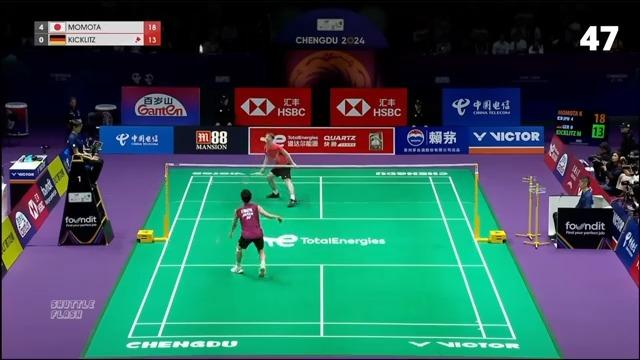Shuttlecock: (198, 43, 206, 54)
